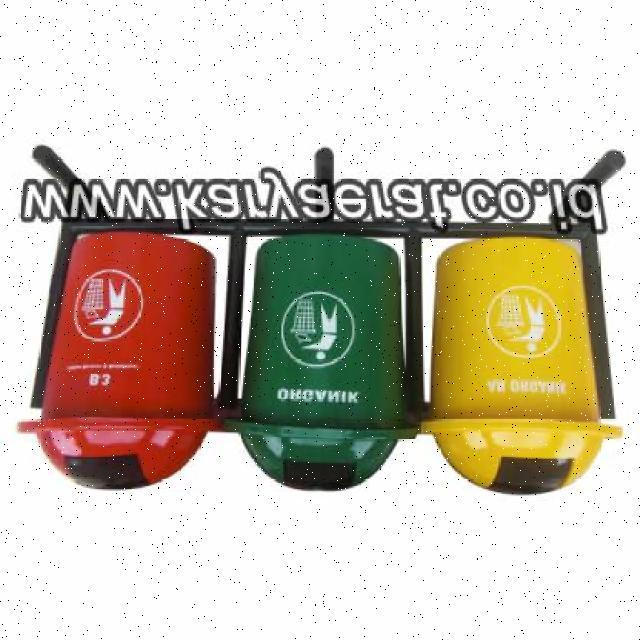garbage container: (415, 221, 629, 509), (13, 232, 233, 498), (222, 229, 423, 502)
